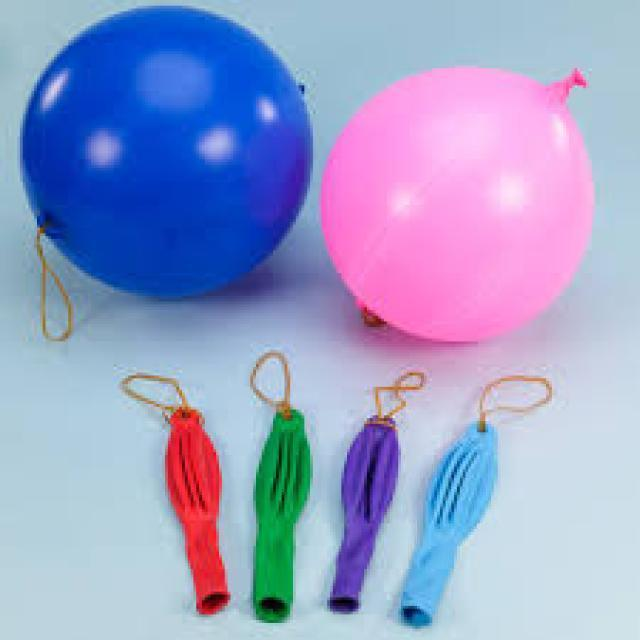balloon: (14, 0, 310, 301), (320, 54, 596, 344), (117, 369, 242, 616), (243, 349, 322, 625), (402, 382, 496, 610), (332, 366, 392, 620)
